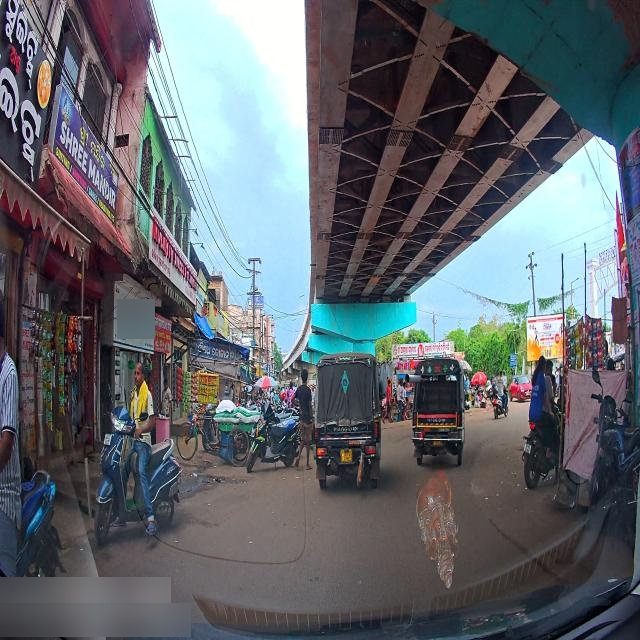pothole: (193, 468, 224, 494)
